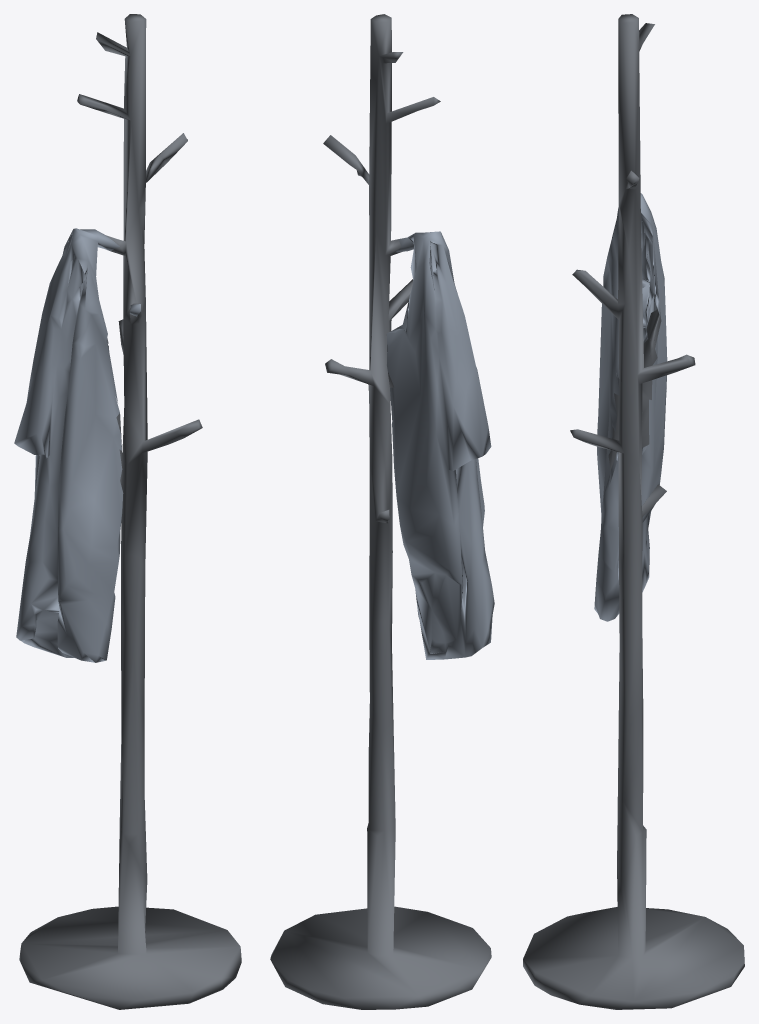
The model's file is coat_rack.glb.
3 views of the same model, side by side, from view 1: azimuth 30°, elevation 25°; view 2: azimuth 150°, elevation 25°; view 3: azimuth 270°, elevation 25° (orthographic).
Parts seen in each view (by area): view 1: rack, coat; view 2: rack, coat; view 3: rack, coat.
Boxes of the visible parts, x1,y1,x2,y2 form: rack: (19,14,241,1009); coat: (14,228,140,662); rack: (270,14,491,1009); coat: (386,231,494,659); rack: (523,14,744,1009); coat: (573,193,667,621).
Bounding box in the file's own units: 0.2288 × 0.999 × 0.2119.
